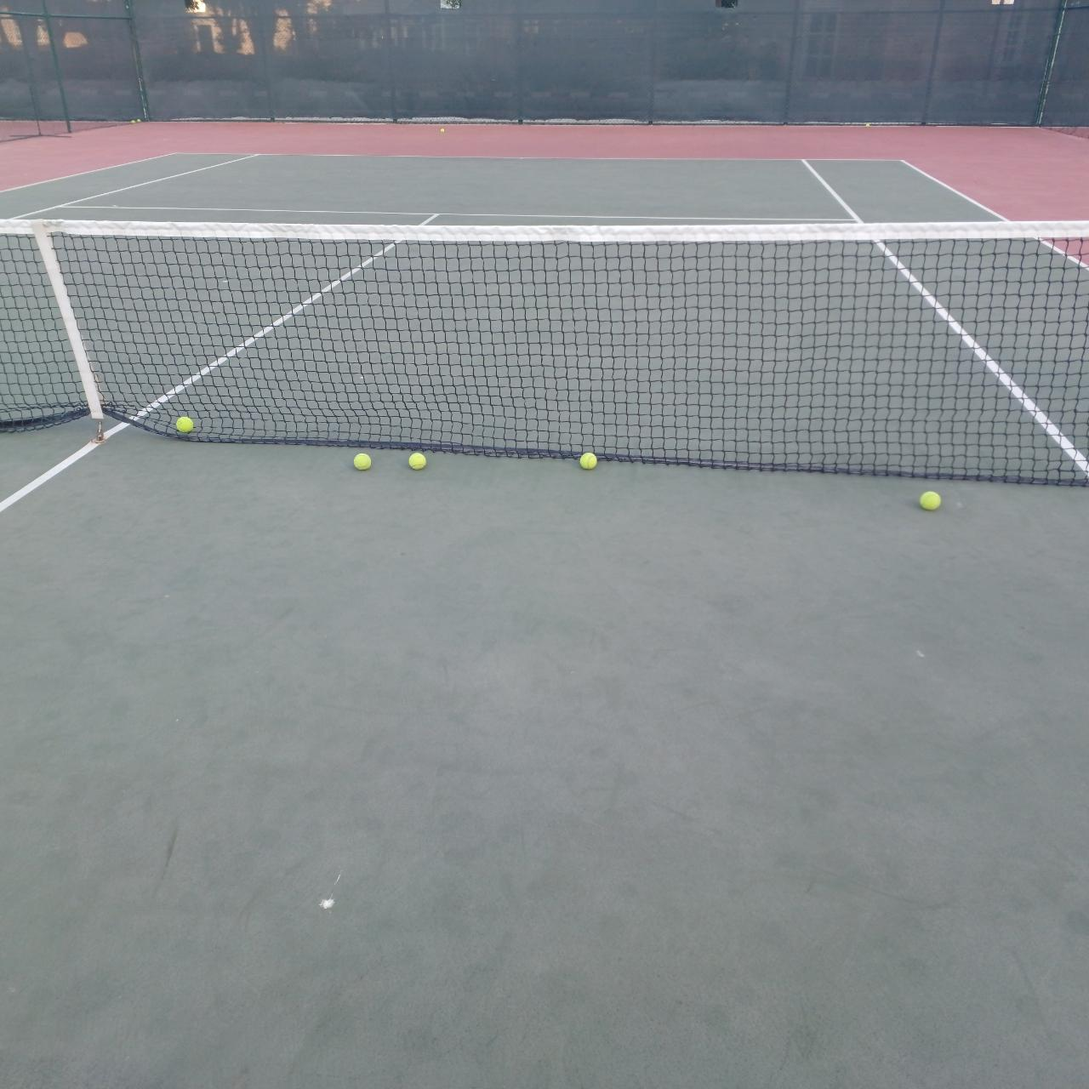tennis-ball: (917, 487, 941, 510), (174, 413, 194, 433), (351, 450, 371, 470), (578, 450, 597, 470), (407, 450, 425, 469)
